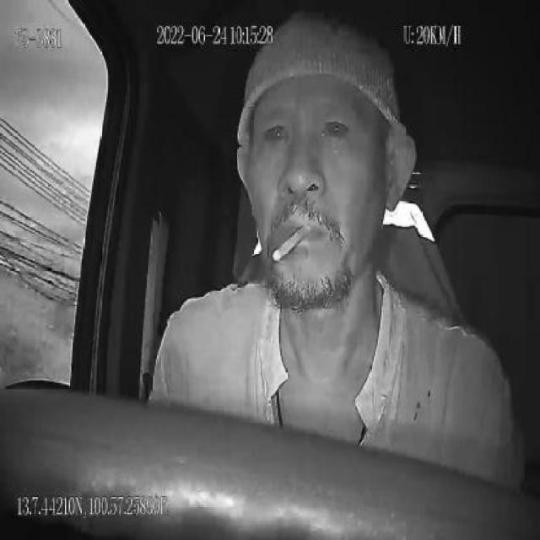smoking: (273, 219, 311, 266)
